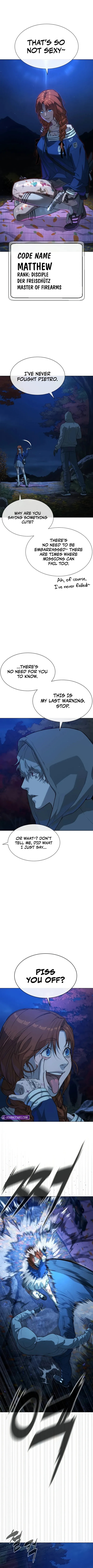bubbles: (1, 492, 93, 577), (0, 650, 93, 733), (6, 239, 87, 303), (13, 952, 78, 1007), (13, 23, 79, 77), (9, 356, 67, 400), (2, 824, 62, 862)
